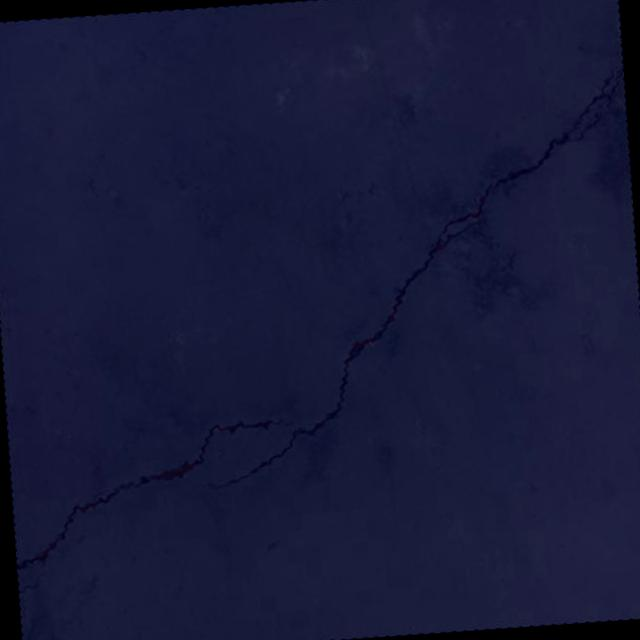crack: (178, 64, 640, 489), (8, 416, 302, 570), (17, 572, 45, 594)
